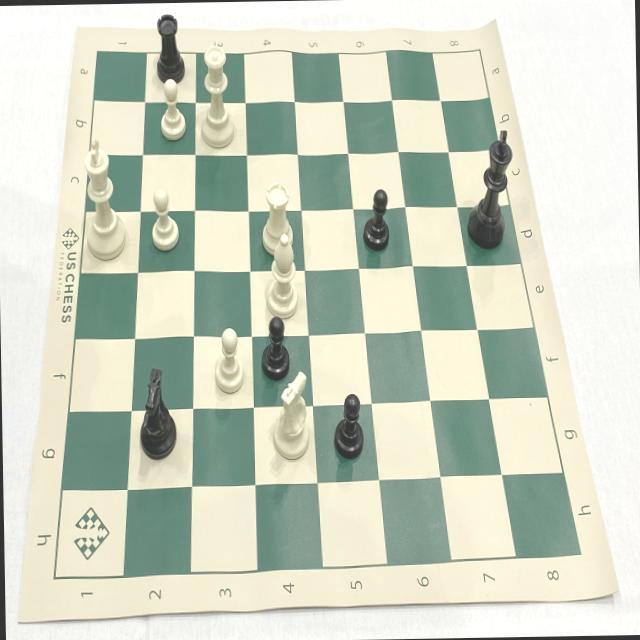black-king: (462, 124, 518, 253)
black-knight: (126, 360, 180, 466)
black-pawn: (329, 389, 368, 463), (256, 308, 294, 382), (358, 184, 393, 256)
black-rook: (150, 5, 188, 90)
white-bishop: (261, 229, 302, 324)
white-king: (76, 130, 130, 266)
white-knight: (268, 368, 318, 462)
white-pawn: (210, 319, 248, 402), (144, 181, 184, 255), (157, 77, 190, 146)
white-queen: (196, 37, 242, 153)
white-rook: (256, 173, 300, 260)
